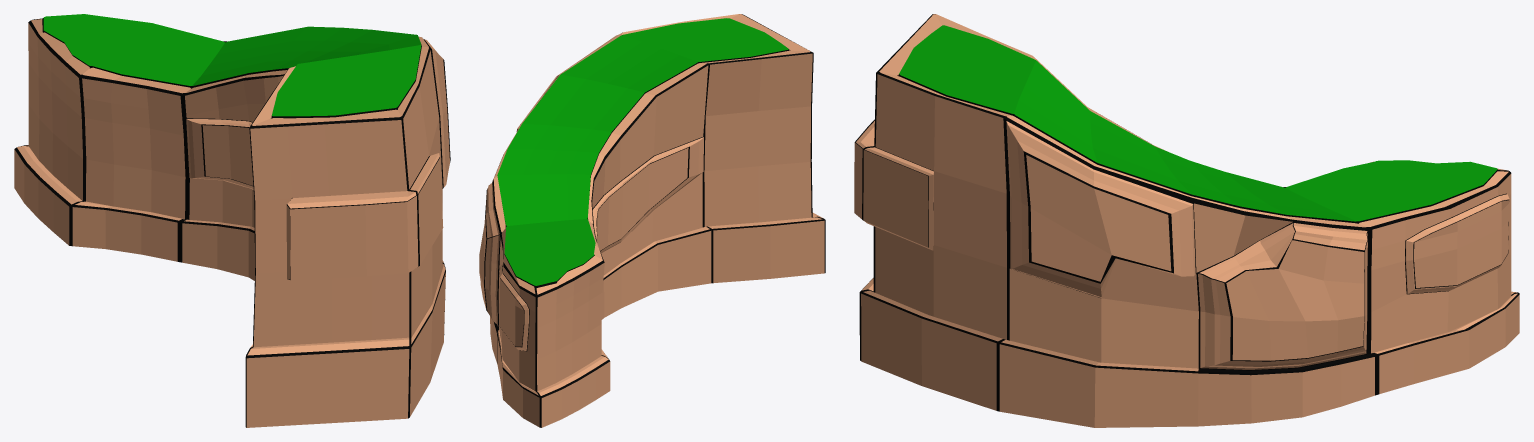
The model's file is CardboardPlatform17.fbx.
3 renders of one model, left to right at view 1: azimuth 30°, elevation 25°; view 2: azimuth 150°, elevation 25°; view 3: azimuth 270°, elevation 25°, orthographic. The views are drawn at different scales.
Visible parts, largest first — view 1: Cube.034; view 2: Cube.034; view 3: Cube.034.
Boxes of the visible parts, x1=… form: Cube.034: x1=14, y1=14, x2=450, y2=427; Cube.034: x1=479, y1=14, x2=825, y2=427; Cube.034: x1=854, y1=14, x2=1519, y2=427.
Bounding box in the file's own units: 2391 × 2368 × 4923.
